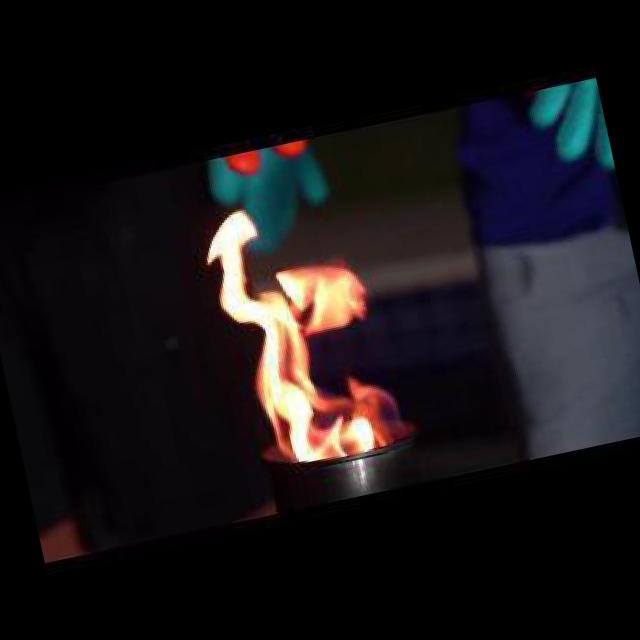Fire: (190, 170, 410, 487)
